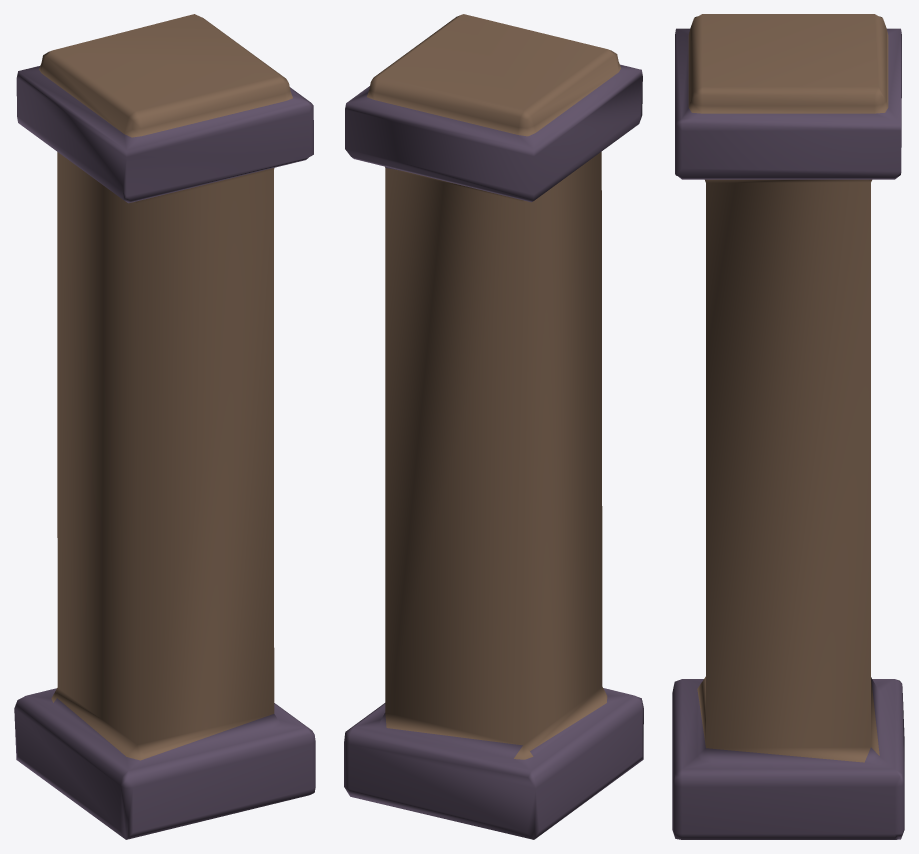
The model's file is crypt_column.glb.
The picture shows the model from 3 angles, left to right: view 1: azimuth 30°, elevation 25°; view 2: azimuth 150°, elevation 25°; view 3: azimuth 270°, elevation 25°; orthographic projection. The views are drawn at different scales.
Visible parts, largest first — view 1: crypt_column; view 2: crypt_column; view 3: crypt_column.
Boxes of the visible parts, box(x1,y1,x2,y2) form: crypt_column: box(14, 14, 315, 839); crypt_column: box(344, 14, 643, 839); crypt_column: box(672, 14, 904, 839).
Size of the model in its own units: 0.9 by 3.18 by 0.9.
